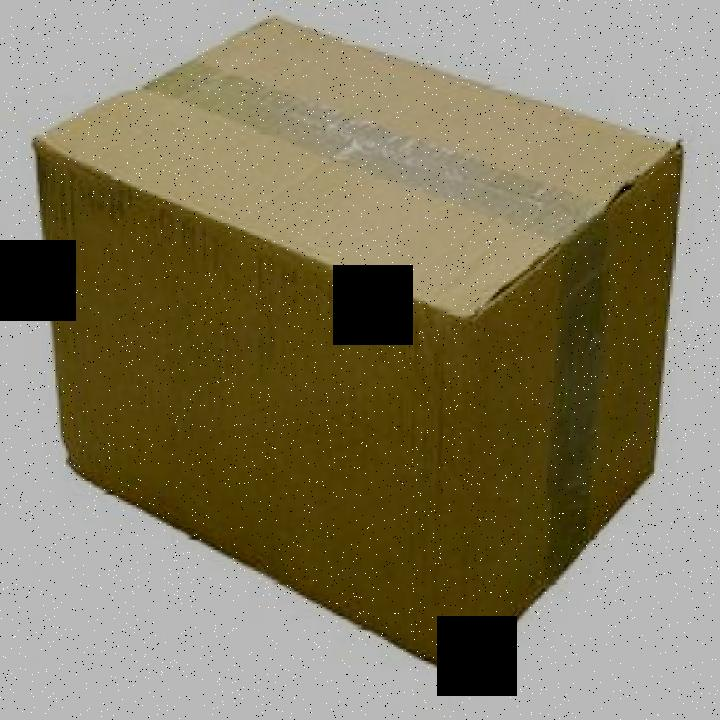box: (24, 10, 687, 690)
